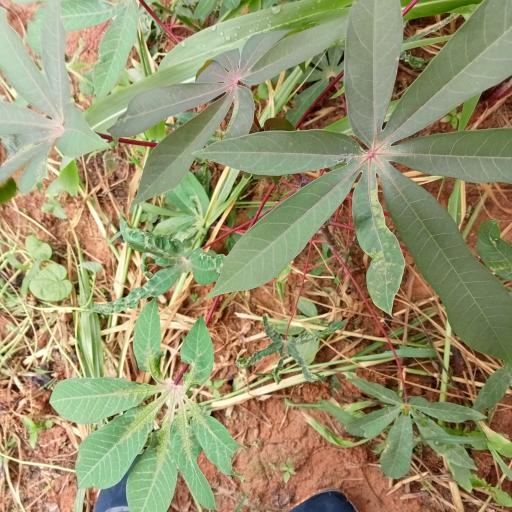Cassava_Mosaic: (205, 4, 512, 354), (50, 359, 234, 512), (0, 7, 107, 192)
